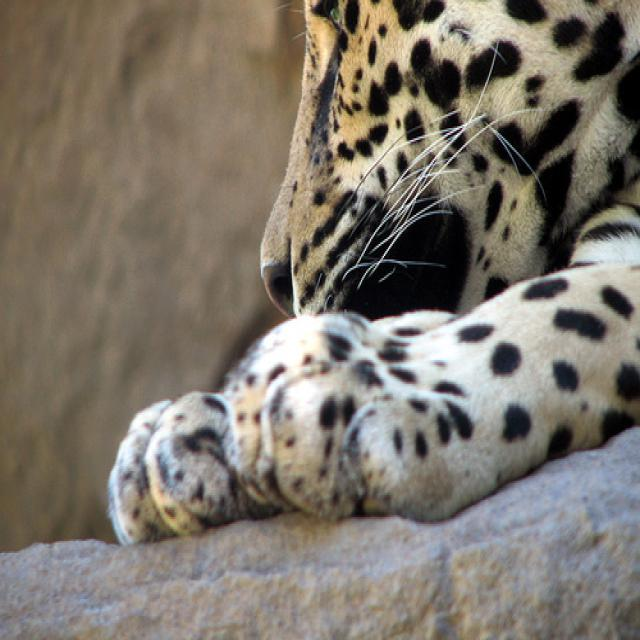Leopard: (101, 0, 638, 548)
